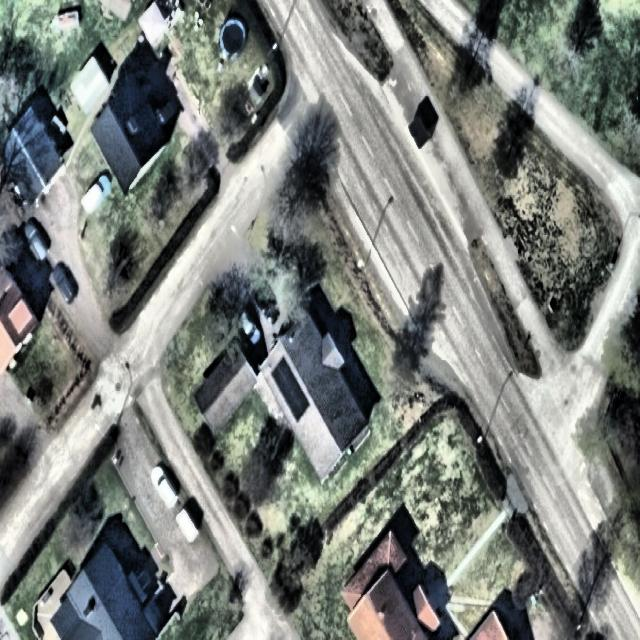roof_pv: (270, 352, 312, 422)
